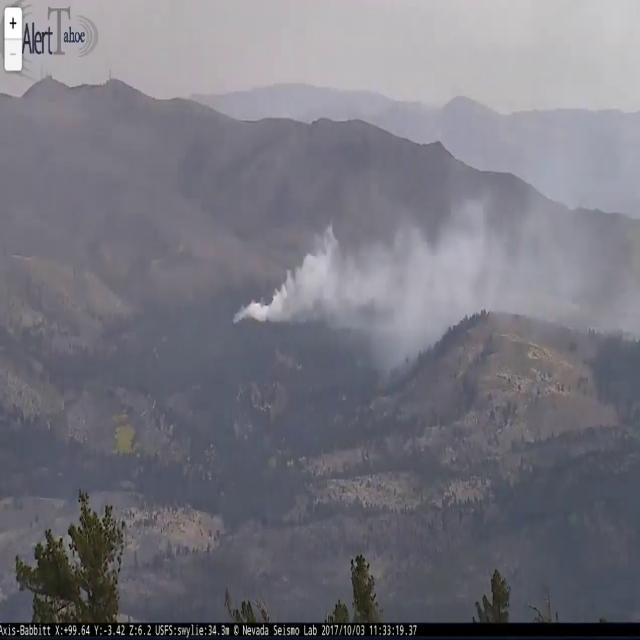smoke: (230, 167, 640, 379)
